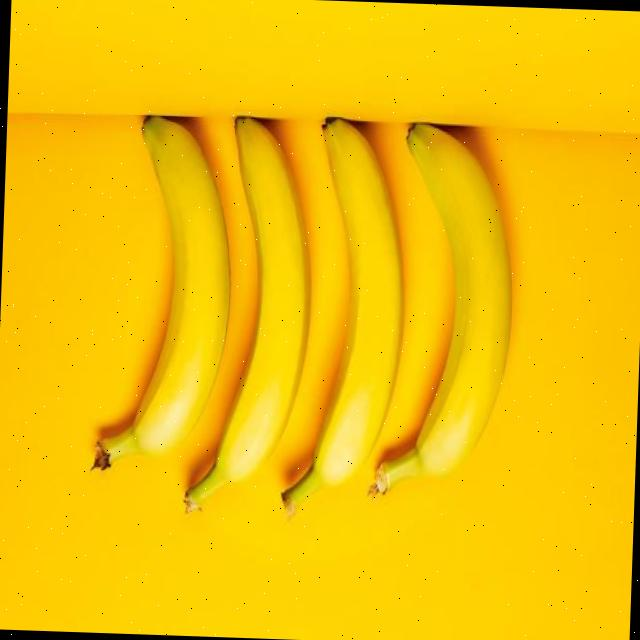Pisang: (88, 110, 518, 530), (354, 120, 518, 506), (178, 114, 316, 520), (276, 116, 409, 524), (88, 114, 235, 478), (253, 118, 356, 516)
